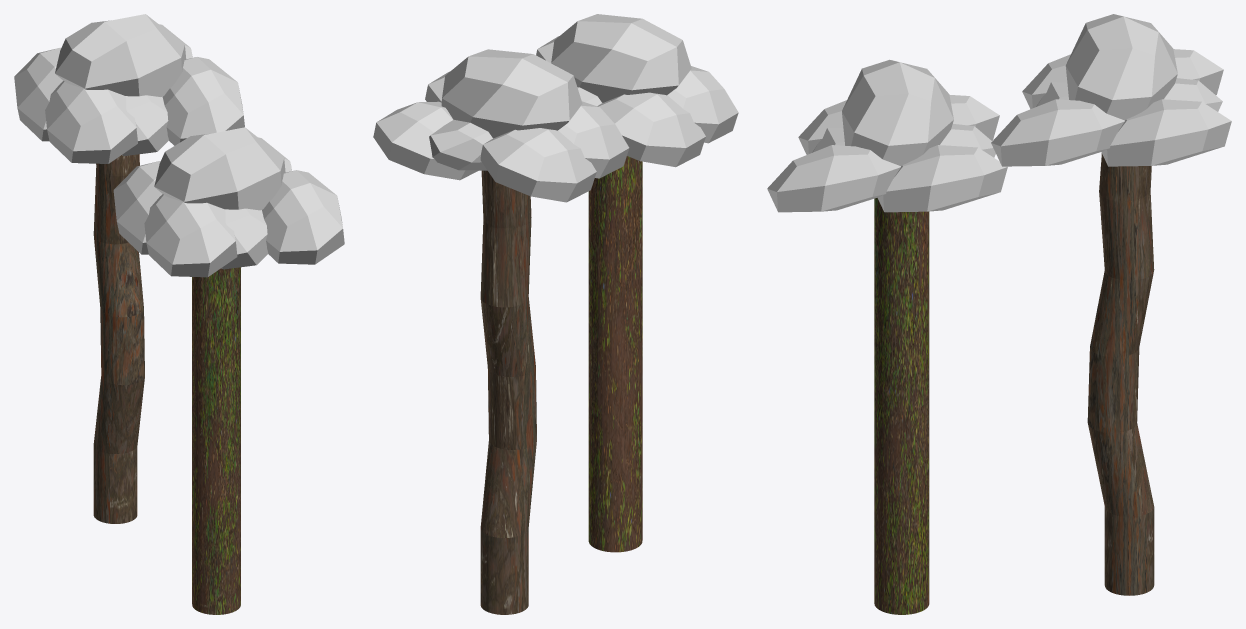
Rendered from ForestTallTrees.fbx.
3 renders of one model, left to right at view 1: azimuth 30°, elevation 25°; view 2: azimuth 150°, elevation 25°; view 3: azimuth 270°, elevation 25°, orthographic. The views are drawn at different scales.
Visible parts, largest first — view 1: Cylinder.001, Cylinder, Cube.078, Cube.071, Cube.076, Cube.077, Cube.070, Cube.069, Cube.068, Cube.075, Cube.073, Cube.066; view 2: Cylinder.001, Cylinder, Cube.071, Cube.078, Cube.068, Cube.075, Cube.067, Cube.077, Cube.070, Cube.062; view 3: Cylinder.001, Cylinder, Cube.071, Cube.078, Cube.069, Cube.076, Cube.067, Cube.074, Cube.068, Cube.075, Cube.070, Cube.077 (+2 smaller).
Part boxes in pixels (<box>): Cylinder.001: <box>192,267,240,614</box>; Cylinder: <box>93,154,144,523</box>; Cube.078: <box>154,127,285,210</box>; Cube.071: <box>55,14,186,96</box>; Cube.076: <box>262,170,344,264</box>; Cube.077: <box>144,194,237,277</box>; Cube.070: <box>45,81,137,163</box>; Cube.069: <box>162,57,244,145</box>; Cube.068: <box>14,47,62,141</box>; Cube.075: <box>113,161,162,254</box>; Cube.073: <box>221,208,268,269</box>; Cube.066: <box>122,95,168,156</box>; Cylinder.001: <box>588,156,642,552</box>; Cylinder: <box>480,170,536,614</box>; Cube.071: <box>441,49,582,138</box>; Cube.078: <box>551,14,691,102</box>; Cube.068: <box>480,128,596,202</box>; Cube.075: <box>597,92,705,167</box>; Cube.067: <box>373,101,478,180</box>; Cube.077: <box>667,66,738,143</box>; Cube.070: <box>558,101,629,178</box>; Cube.062: <box>429,119,492,170</box>; Cylinder.001: <box>874,198,929,614</box>; Cylinder: <box>1087,153,1154,595</box>; Cube.071: <box>1065,14,1177,120</box>; Cube.078: <box>842,59,953,165</box>; Cube.069: <box>991,99,1124,166</box>; Cube.076: <box>767,145,900,212</box>; Cube.067: <box>1101,99,1231,166</box>; Cube.074: <box>877,145,1007,212</box>; Cube.068: <box>1173,49,1223,94</box>; Cube.075: <box>949,95,999,140</box>; Cube.070: <box>1022,54,1070,109</box>; Cube.077: <box>798,100,846,154</box>.
Bounding box in the file's own units: 1417 × 4064 × 2954.
